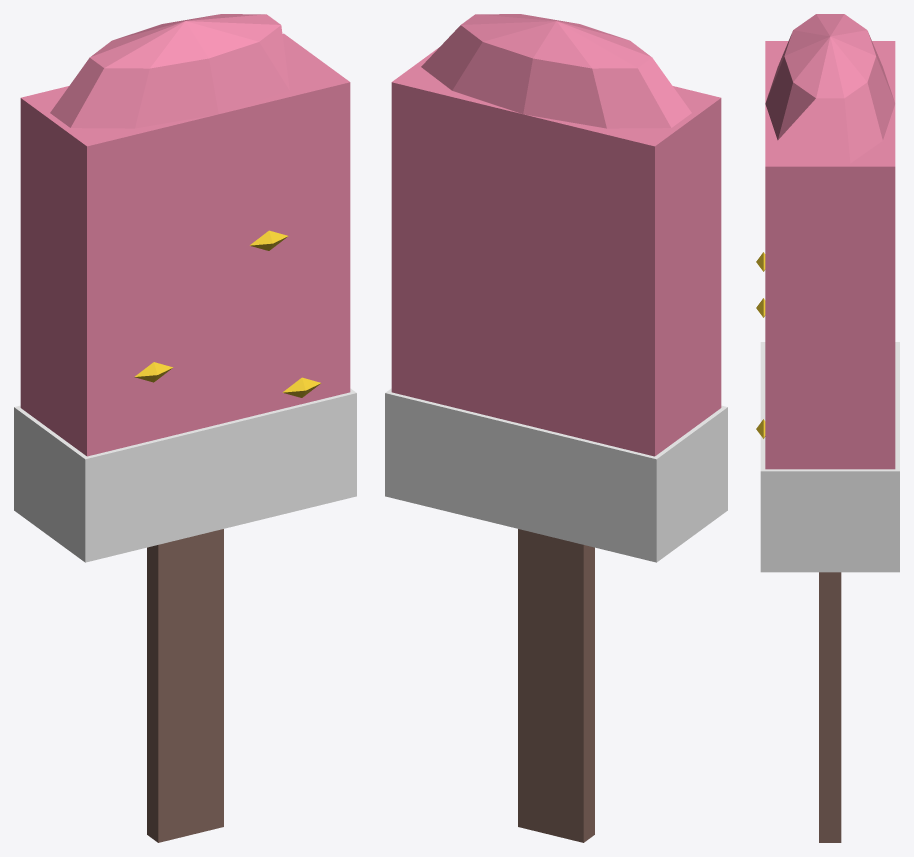
The model's file is glasspinne.glb.
The picture shows the model from 3 angles, left to right: view 1: azimuth 30°, elevation 25°; view 2: azimuth 150°, elevation 25°; view 3: azimuth 270°, elevation 25°; orthographic projection. The views are drawn at different scales.
Visible parts, largest first — view 1: glasspinne; view 2: glasspinne; view 3: glasspinne.
Boxes of the visible parts, x1,y1,x2,y2 form: glasspinne: (14, 14, 356, 842); glasspinne: (385, 14, 727, 842); glasspinne: (756, 14, 899, 842).
Bounding box in the file's own units: 0.165 × 0.47 × 0.0775.
